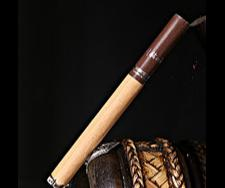Cigarette: (47, 12, 189, 188)
